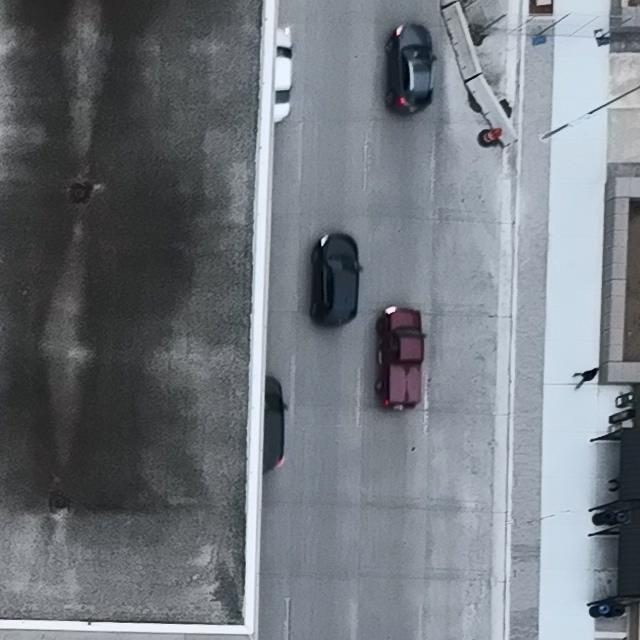car: (374, 305, 427, 413), (384, 24, 437, 117), (310, 234, 363, 326), (264, 376, 289, 472), (273, 29, 294, 124)
